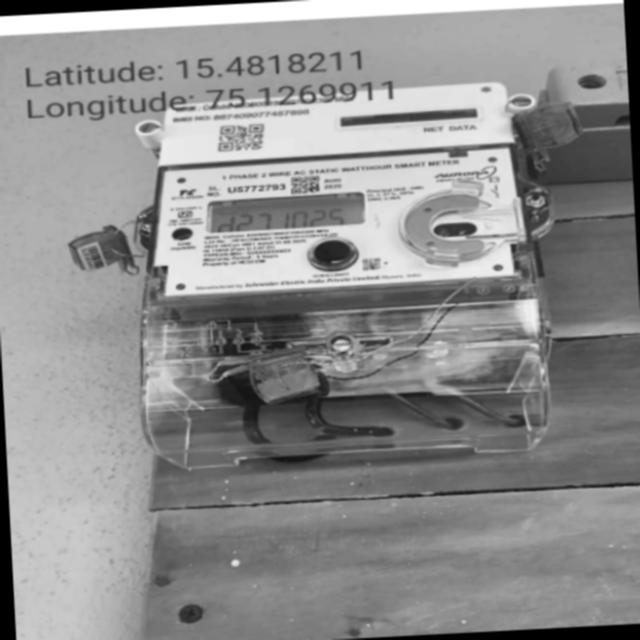meter: (156, 80, 522, 299)
